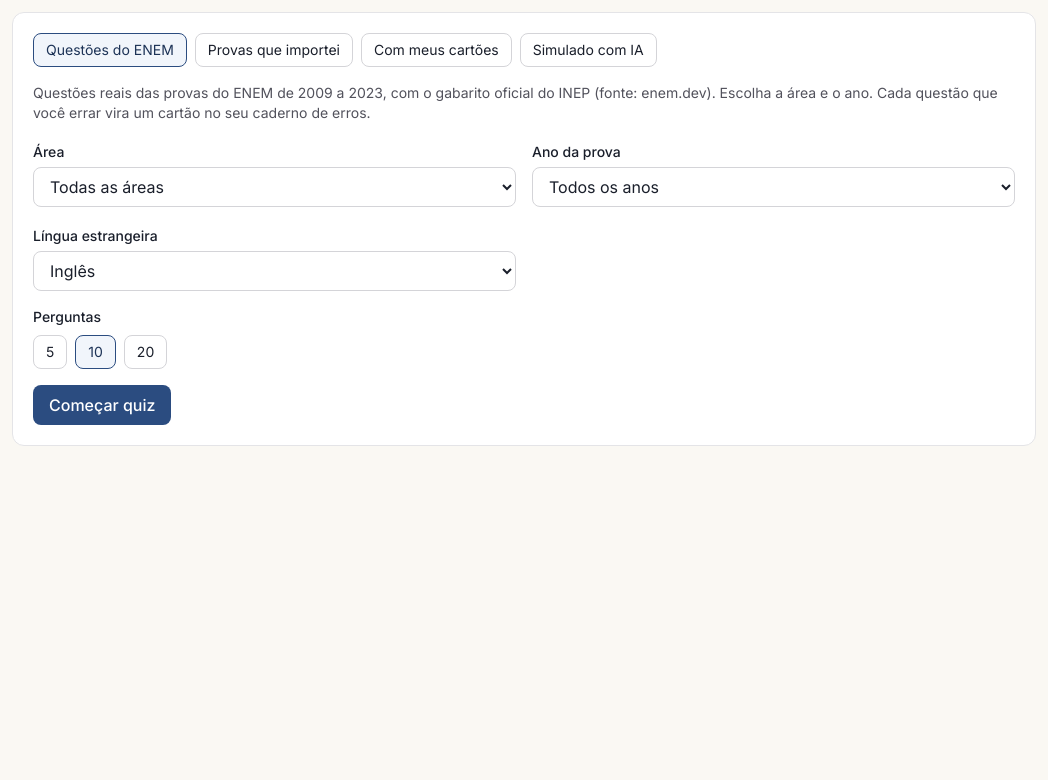
Scenario: quiz com questões reais › começa no ENEM e mostra a questão com origem e gabarito oficial
Select "Matemática" in the dropdown labelled "Área" at x=274, y=187, box [33,167,516,207]
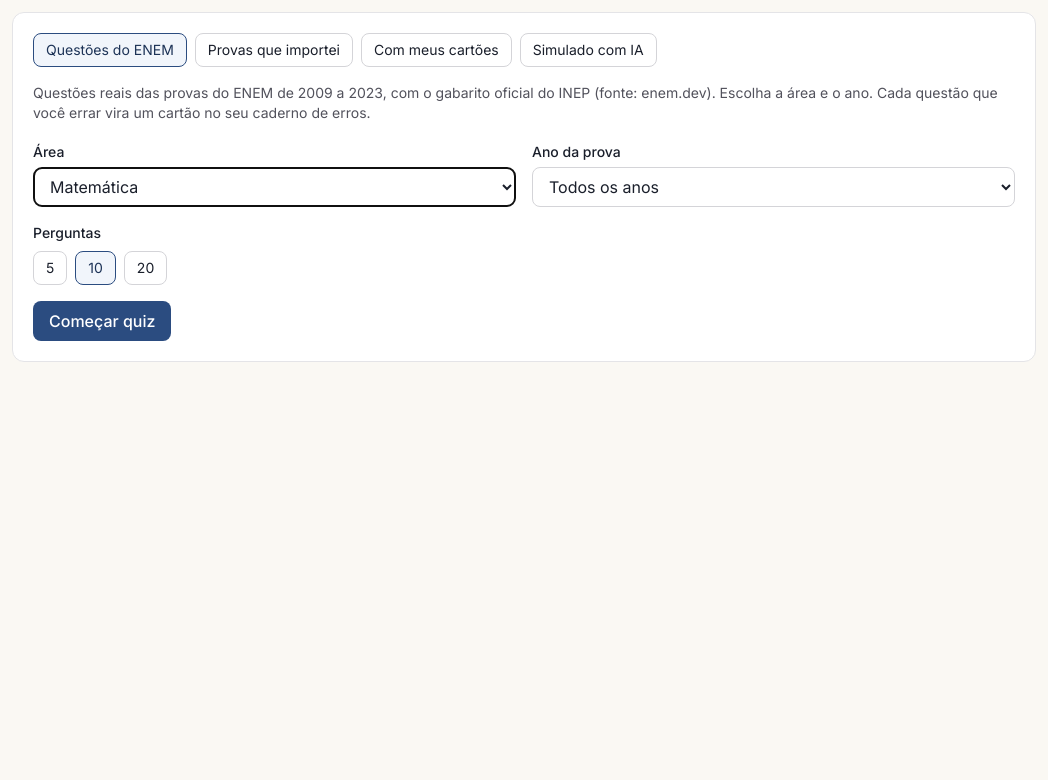
Expected: the label labelled "Língua estrangeira" is gone
Click the button "Começar quiz" at x=102, y=321, box [33,301,171,341]
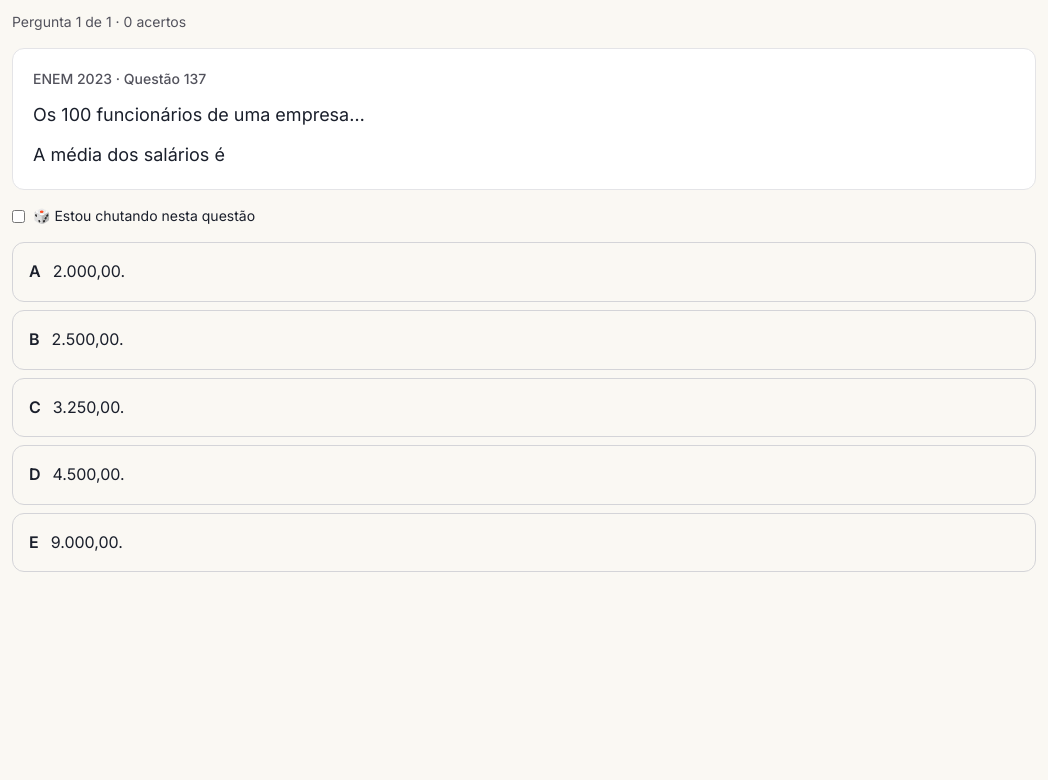
Expected: the text "ENEM 2023 · Questão 137" is shown, [33,70,206,87]
Click the button "B 2.500,00." at x=88, y=339, box [12,310,1036,370]
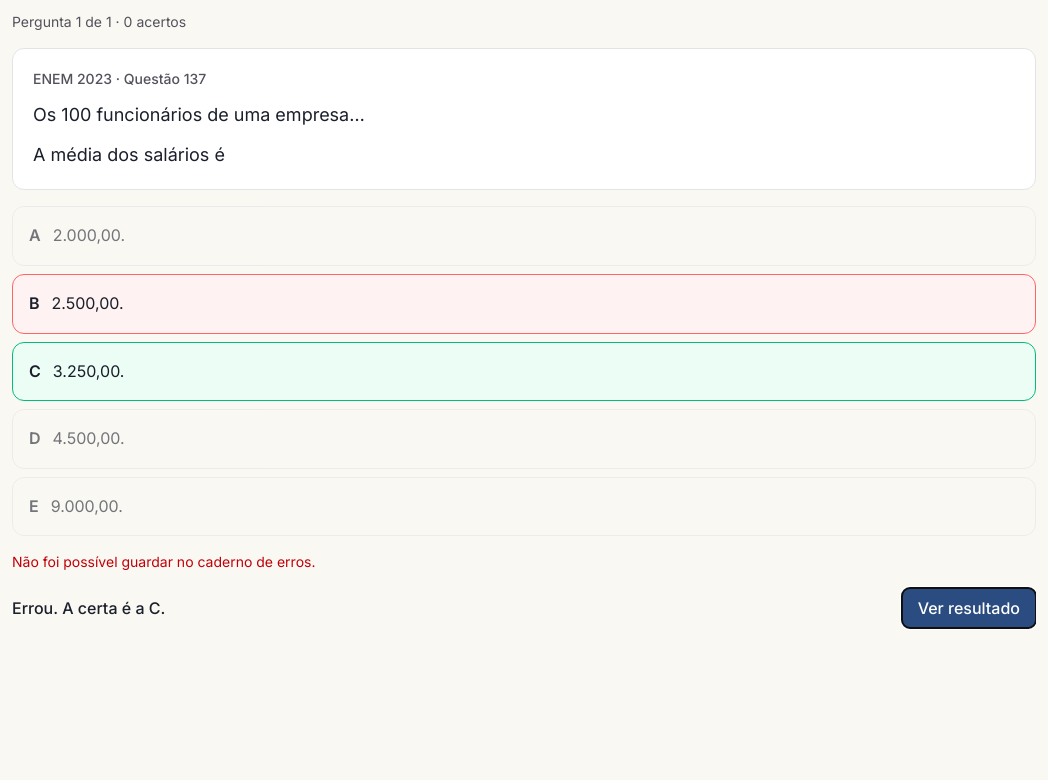
Expected: the message reads "Errou. A certa é a C.", [12,598,165,618]
